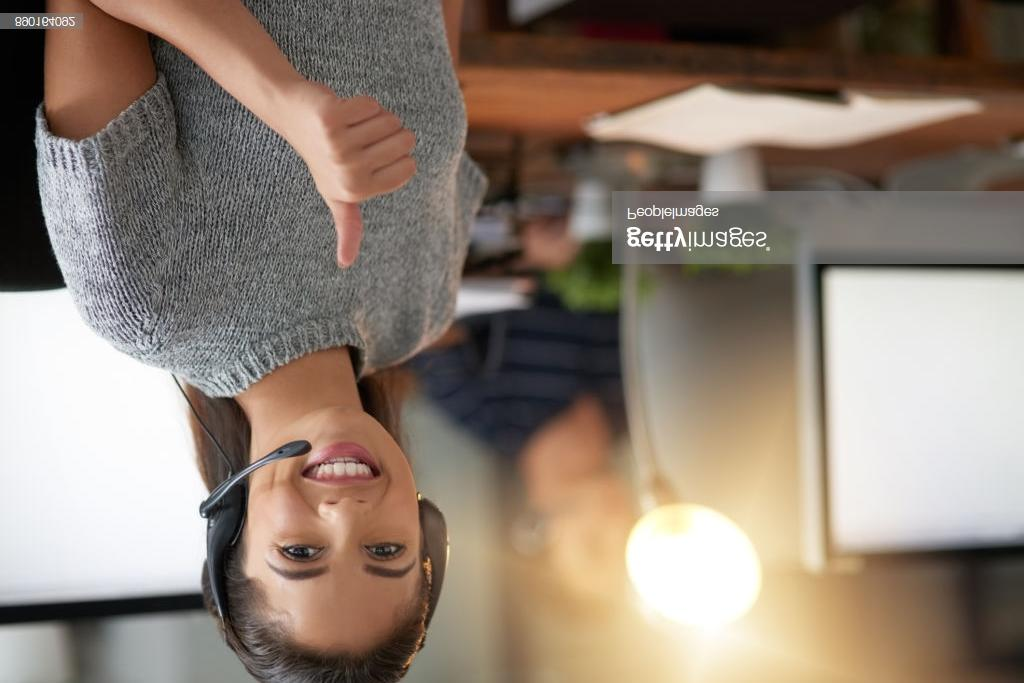thumbsdown: (317, 95, 417, 269)
